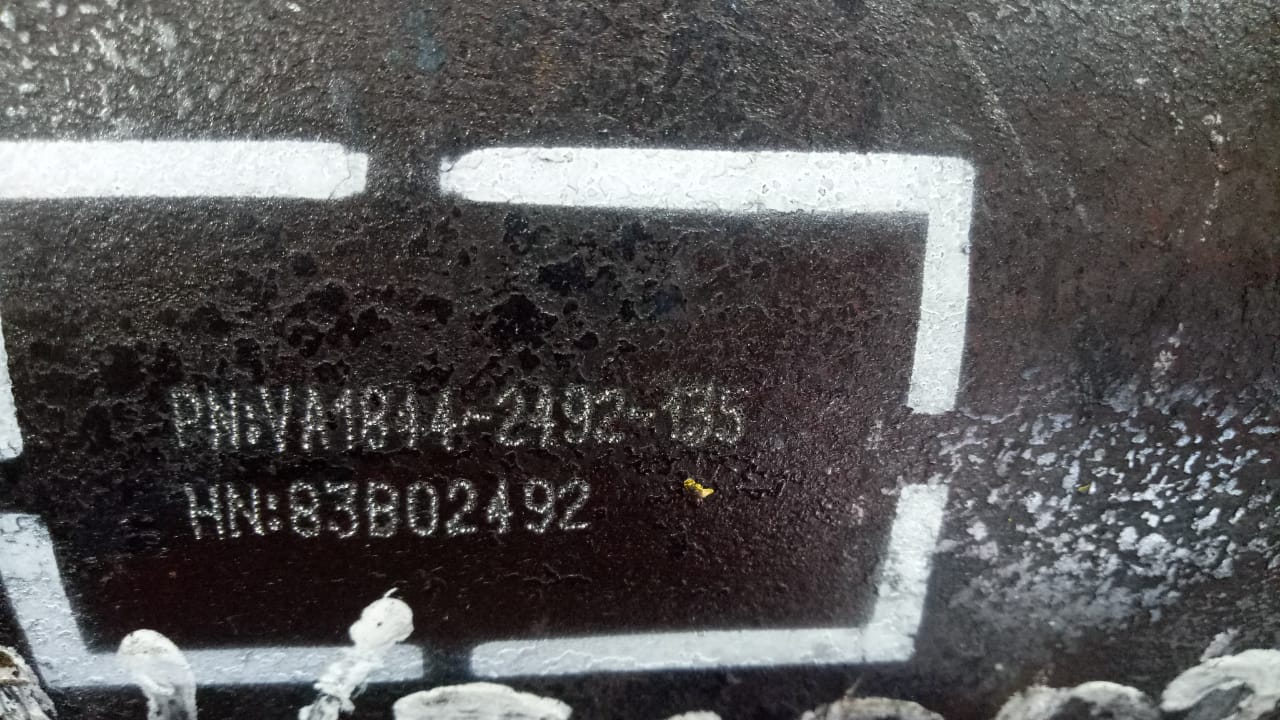character: (198, 386, 244, 459), (513, 473, 558, 545), (177, 480, 227, 543), (441, 472, 486, 542), (555, 472, 596, 544), (402, 473, 444, 543), (281, 476, 325, 541), (256, 380, 294, 455), (360, 476, 402, 543), (294, 381, 332, 455), (492, 380, 529, 456), (388, 382, 425, 457), (422, 382, 460, 455), (321, 475, 362, 542), (356, 380, 392, 456), (457, 382, 494, 455), (559, 379, 596, 451), (165, 383, 204, 451), (627, 378, 662, 452), (714, 381, 750, 451), (481, 473, 517, 543), (224, 480, 263, 544), (592, 379, 625, 453), (525, 380, 559, 451), (328, 384, 360, 459), (681, 382, 716, 450), (658, 384, 687, 449)
